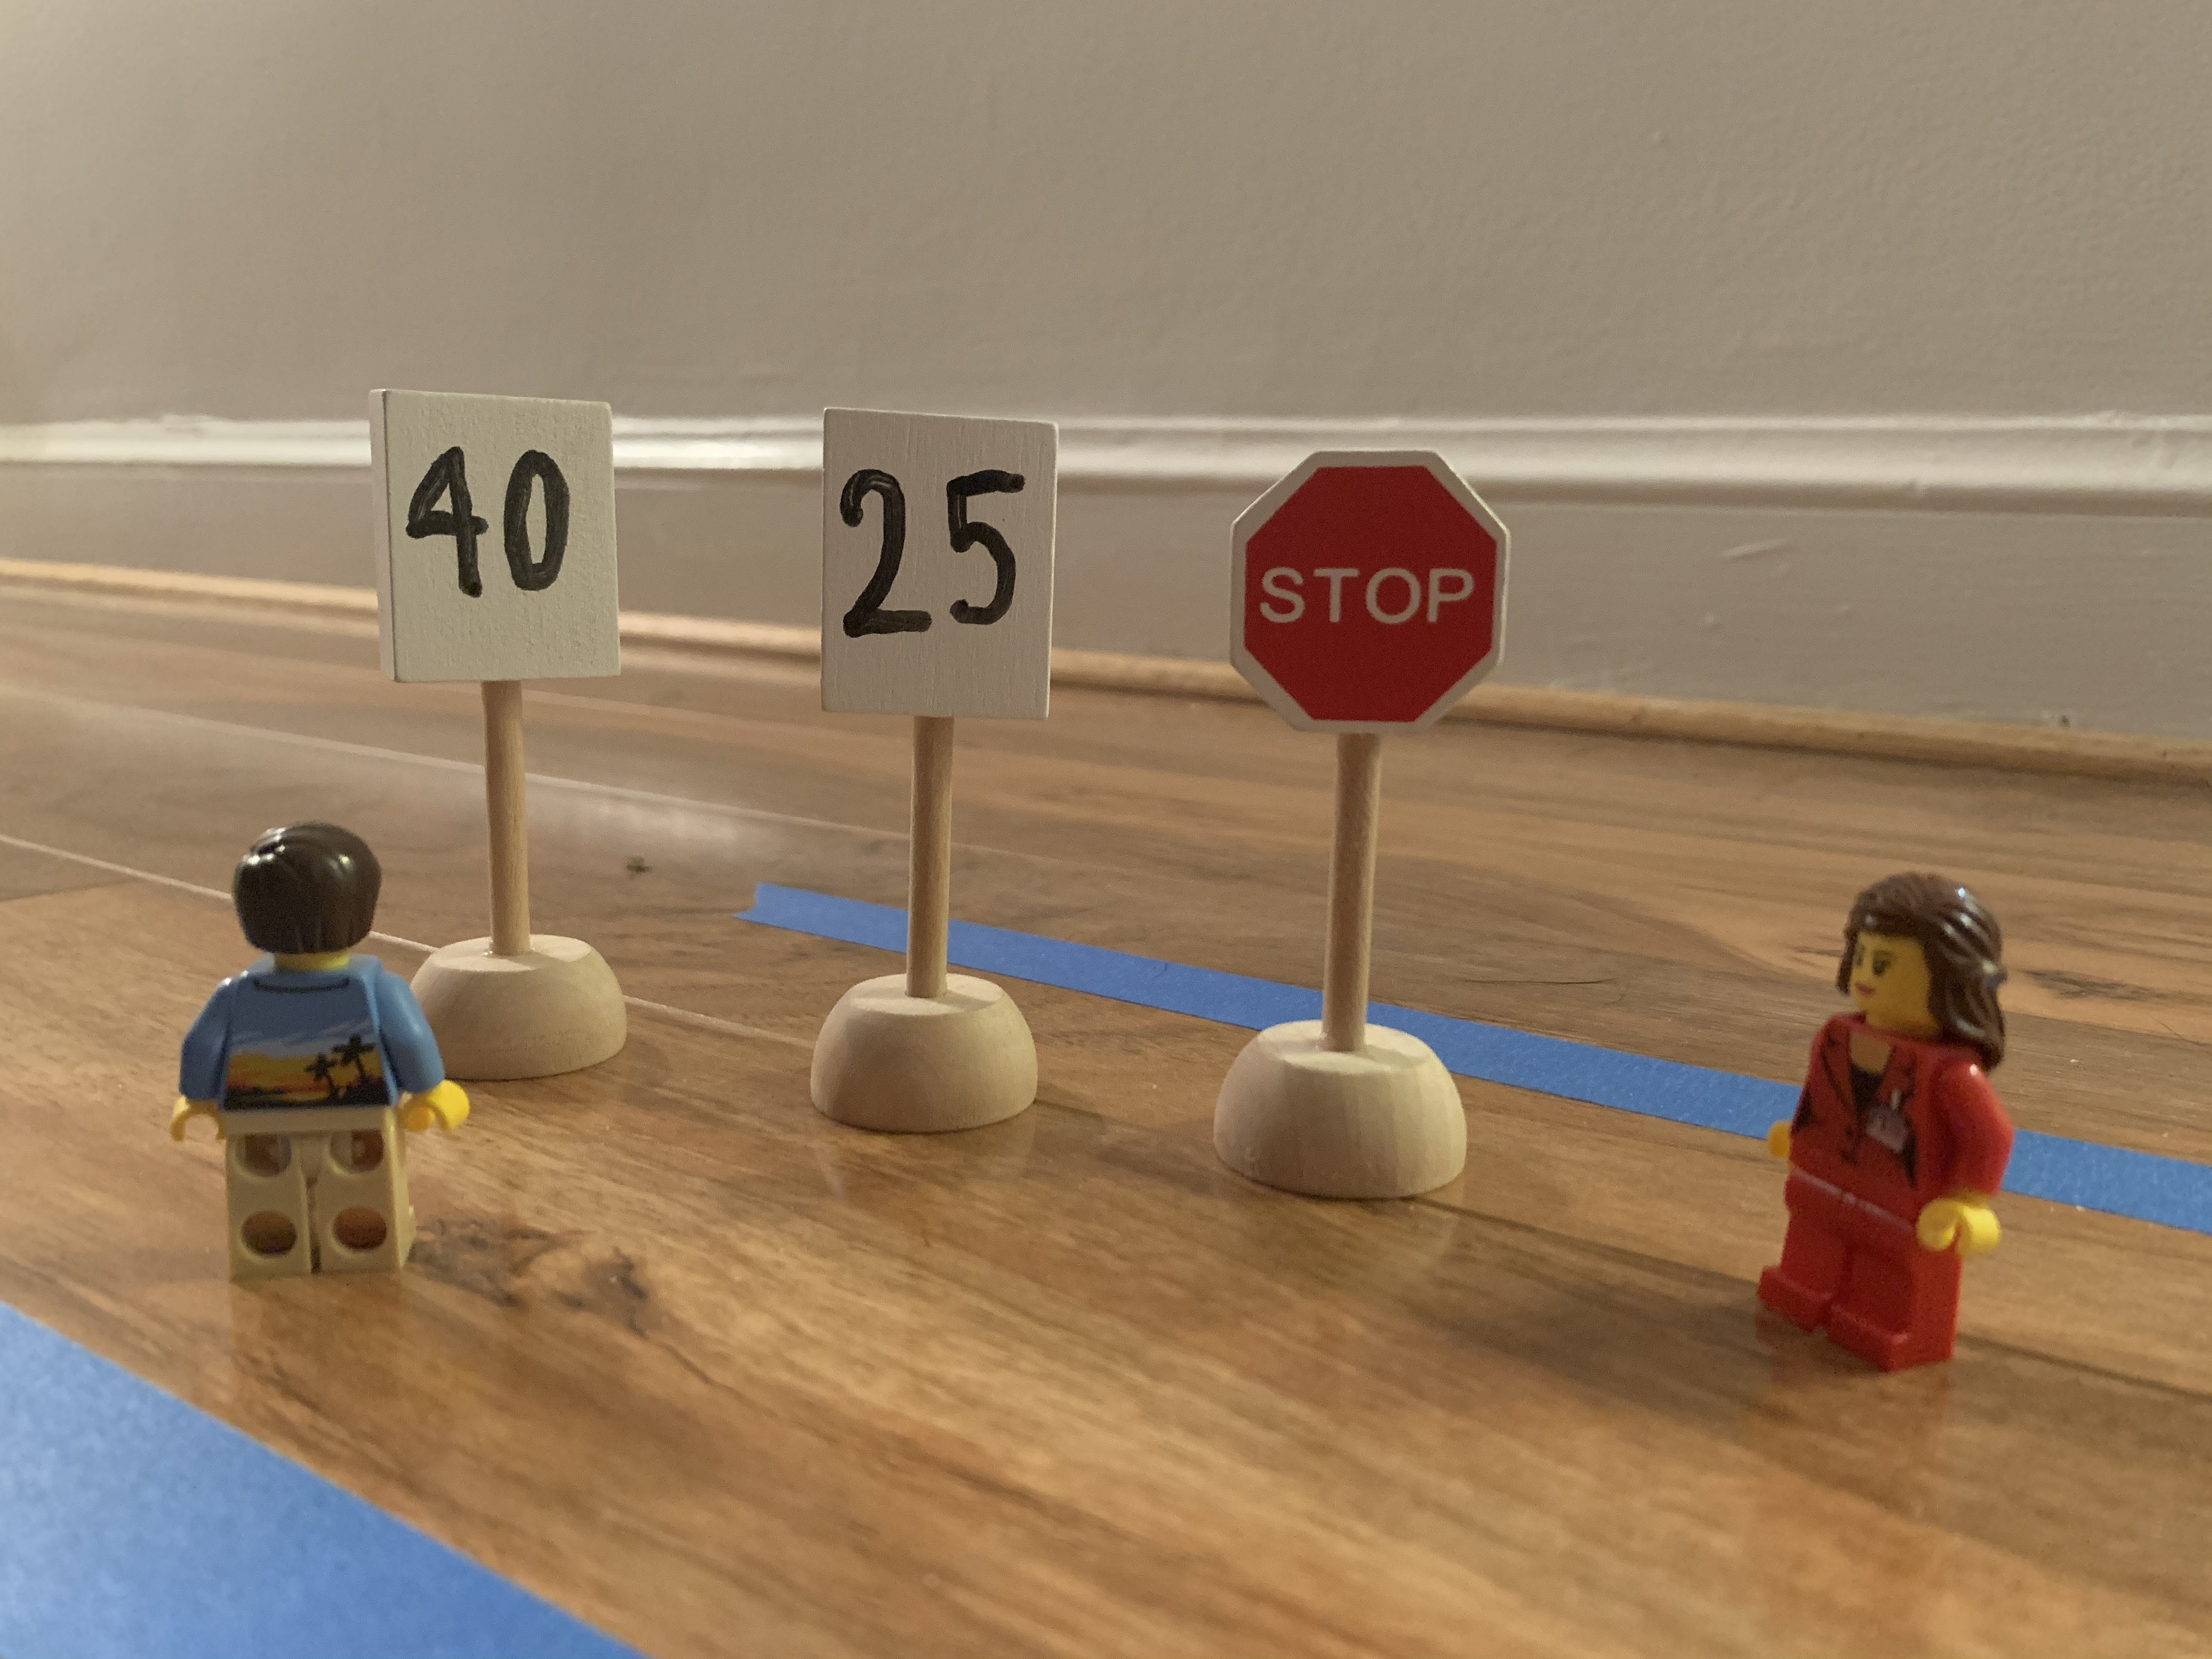Person: (154, 806, 477, 1305), (1752, 856, 2024, 1385)
Speed Limit 25: (825, 409, 1049, 716)
Speed Limit 40: (373, 391, 618, 684)
Stop Sign: (1222, 441, 1510, 733)
